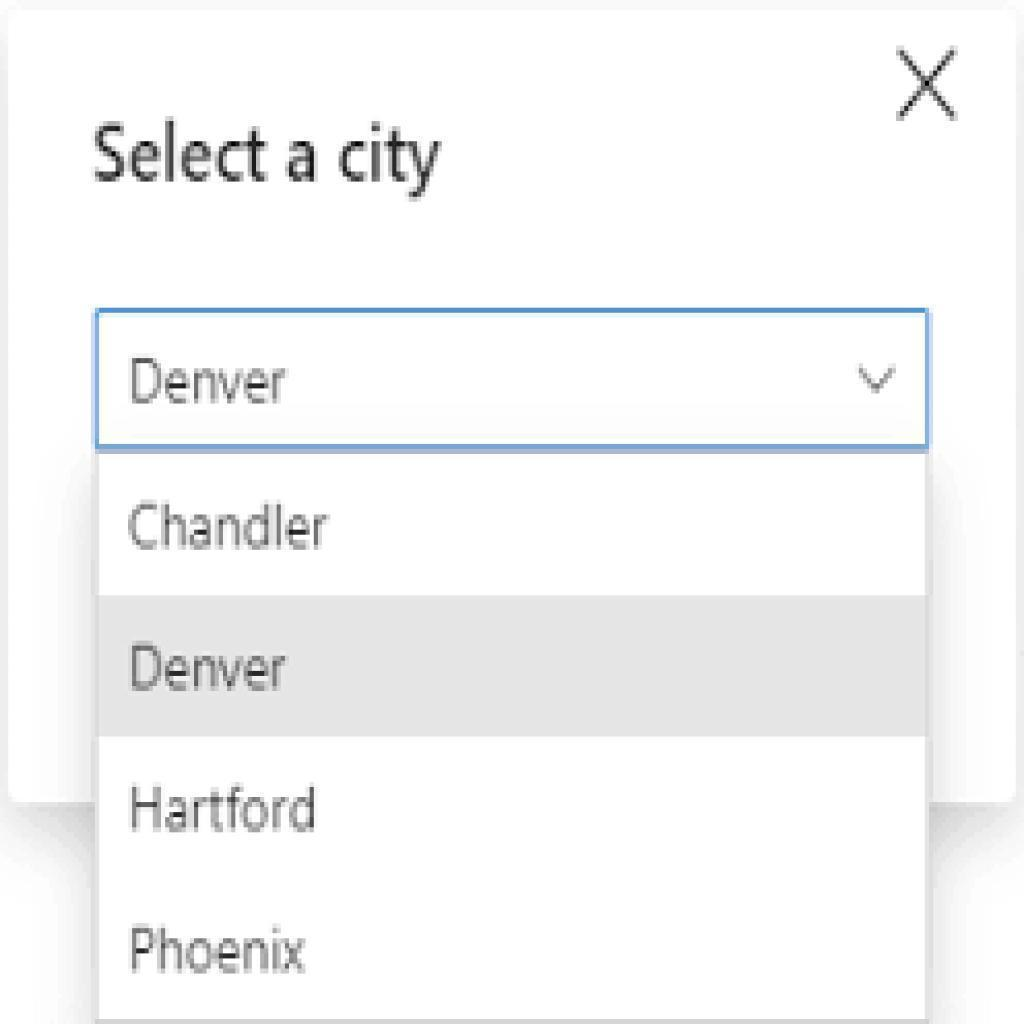dropdown: (96, 308, 927, 450)
icon: (890, 40, 968, 129)
